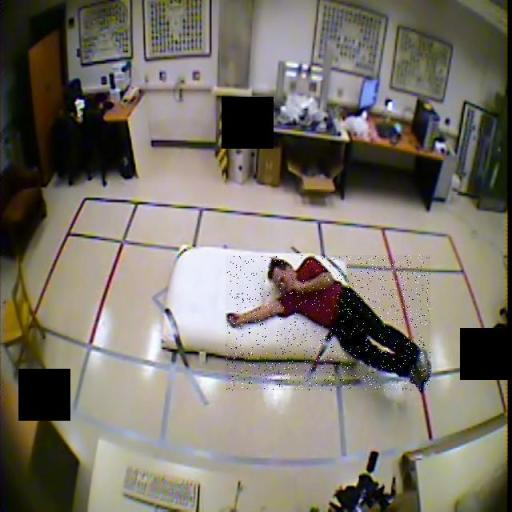Fall: (227, 256, 432, 391)
